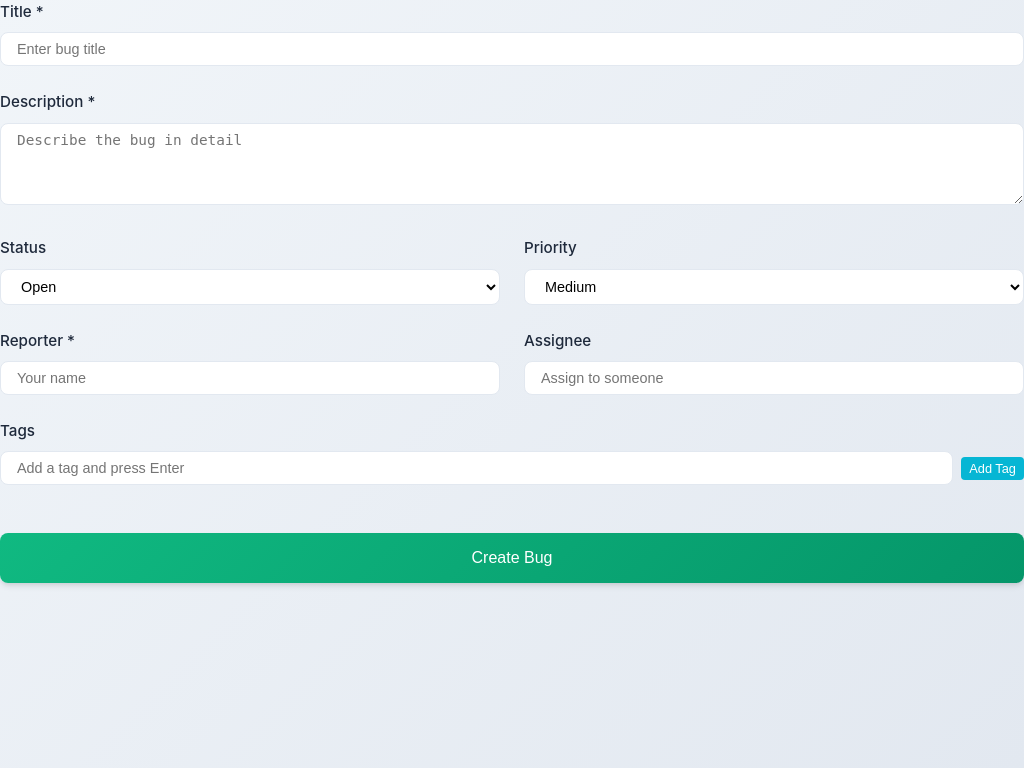
Test: BugForm Component › shows validation errors for empty required fields
Click the button with test id "bug-submit-button".
click(512, 558)  # box [0, 533, 1023, 583]
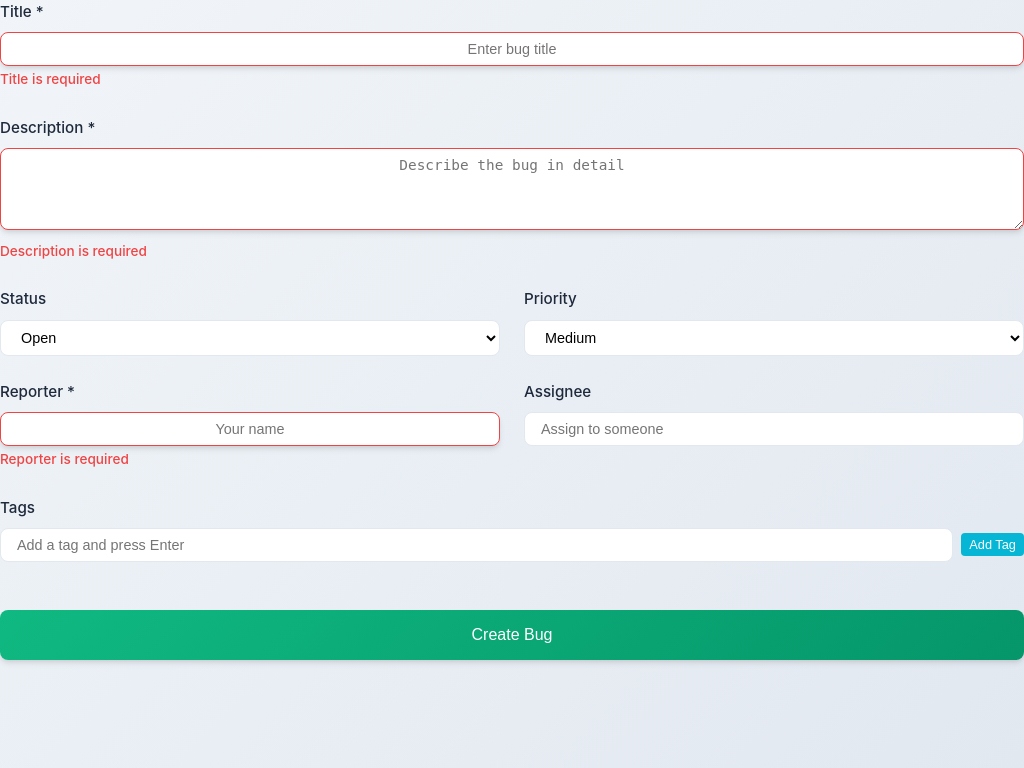
Now the text "Title is required" is shown, box [0, 71, 101, 87]
Now the text "Description is required" is shown, box [0, 243, 147, 259]
Now the text "Reporter is required" is shown, box [0, 451, 129, 467]
